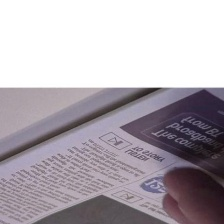news_paper: (0, 87, 224, 223)
